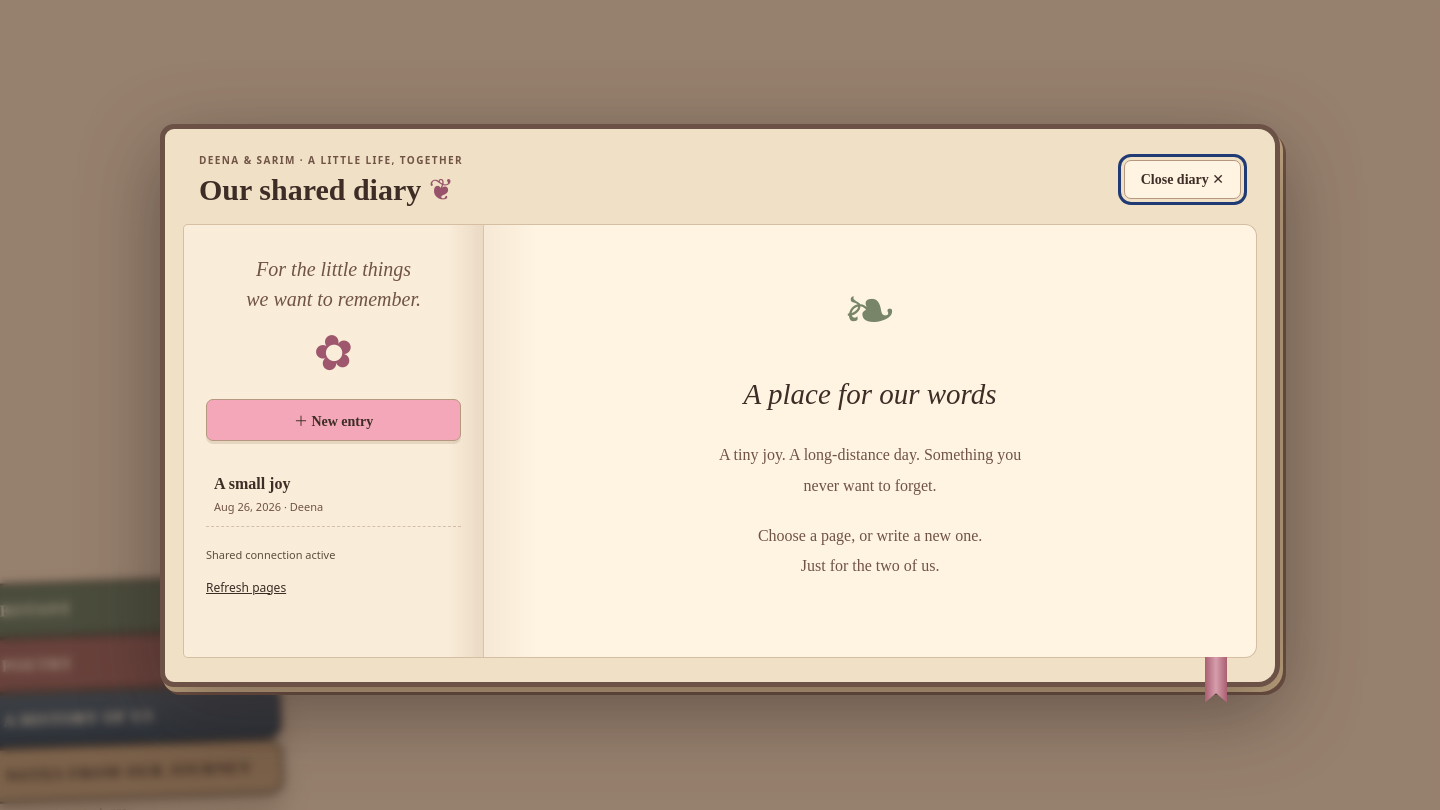
Test: interactive bookshelf and diary › keeps an editing draft when the partner changes the entry, and blocks a stale save
This screenshot has width=1440, height=810.
Check: the button "＋ New entry" is enabled, box [206,398,461,440]
Click the button "A small joy Aug 26, 2026 · Deena": (334, 494) [206,460,461,527]
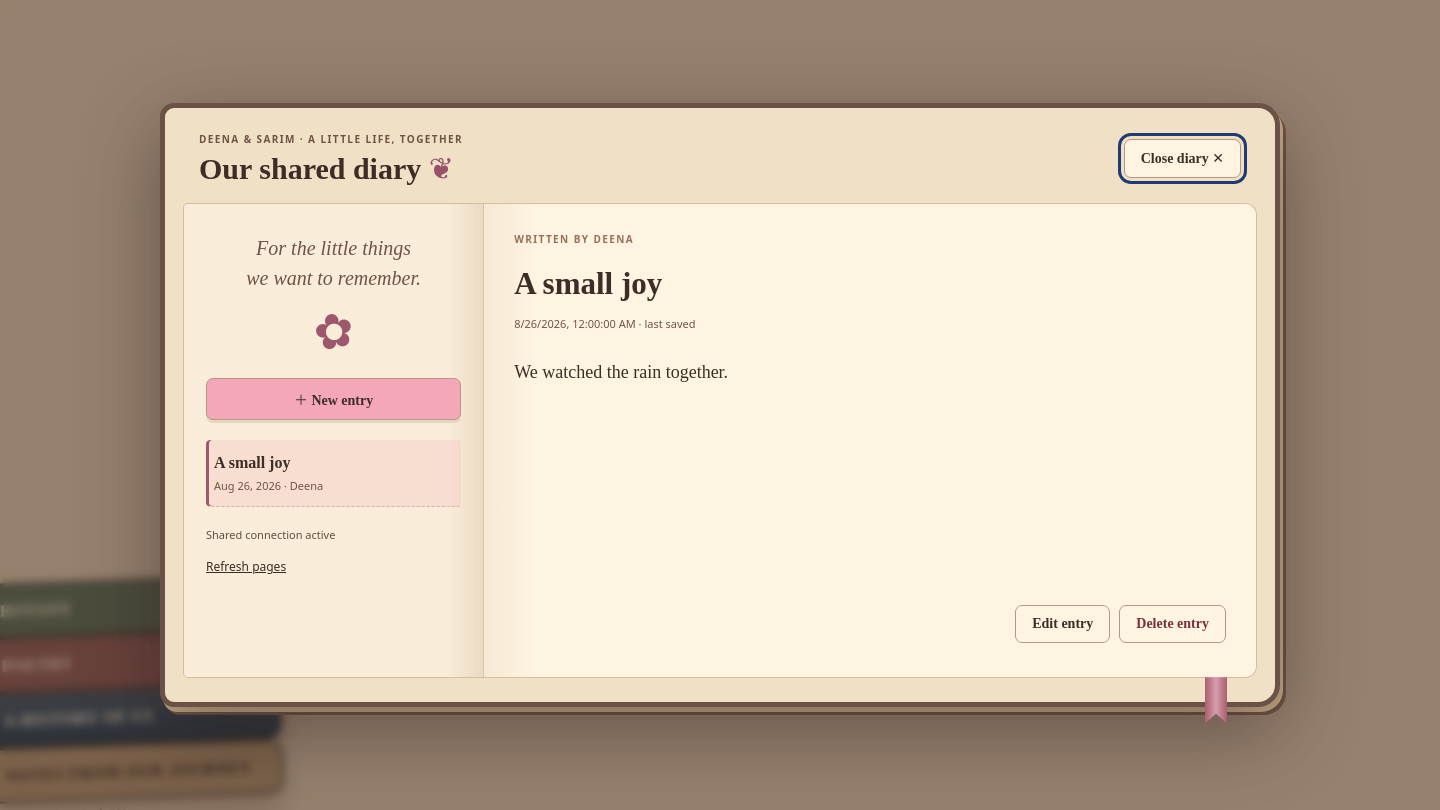
Click the button "Edit entry": (1063, 624) [1015,605,1110,643]
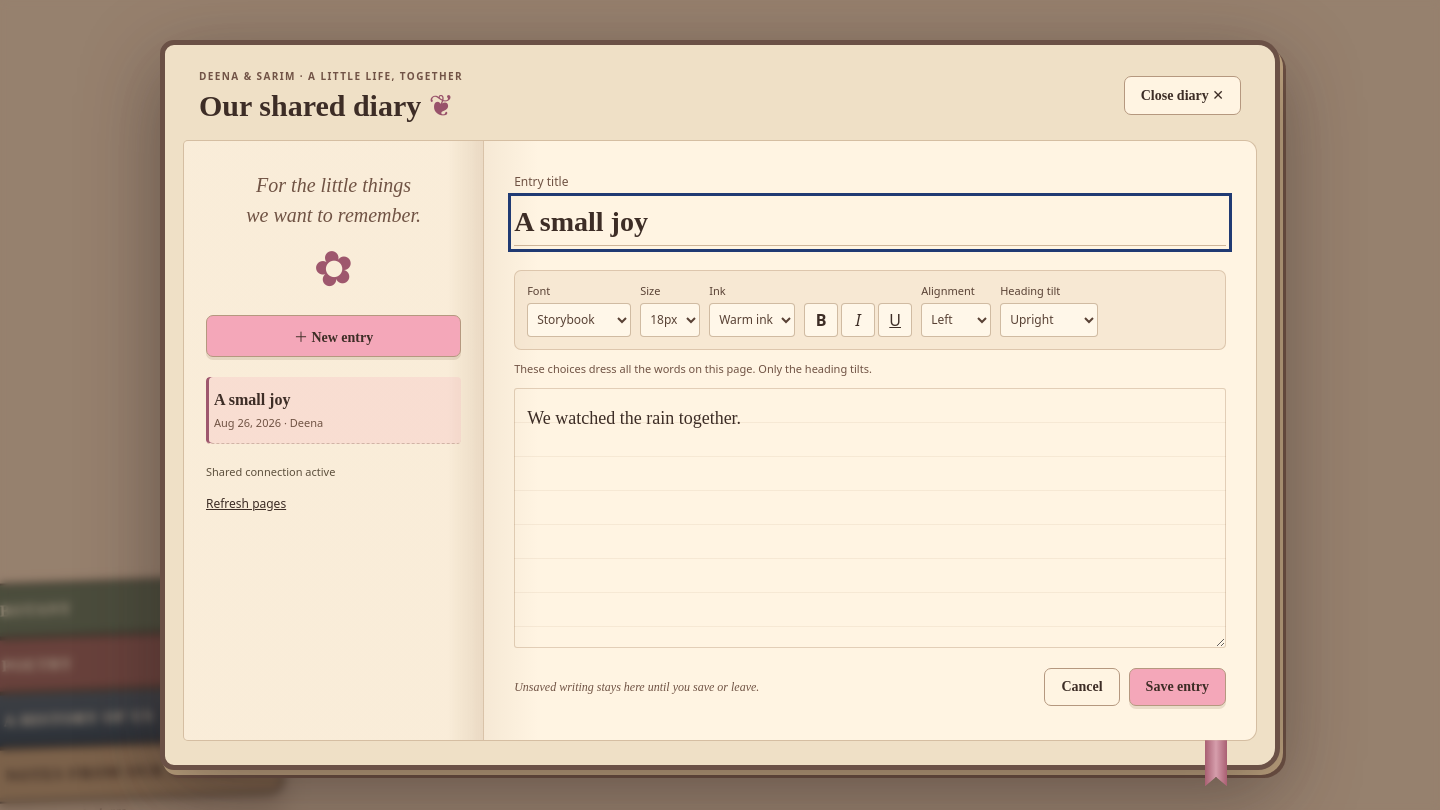
Replace the text in the text box named "Diary body" with "My unsaved words": (870, 518) [514,388,1226,648]
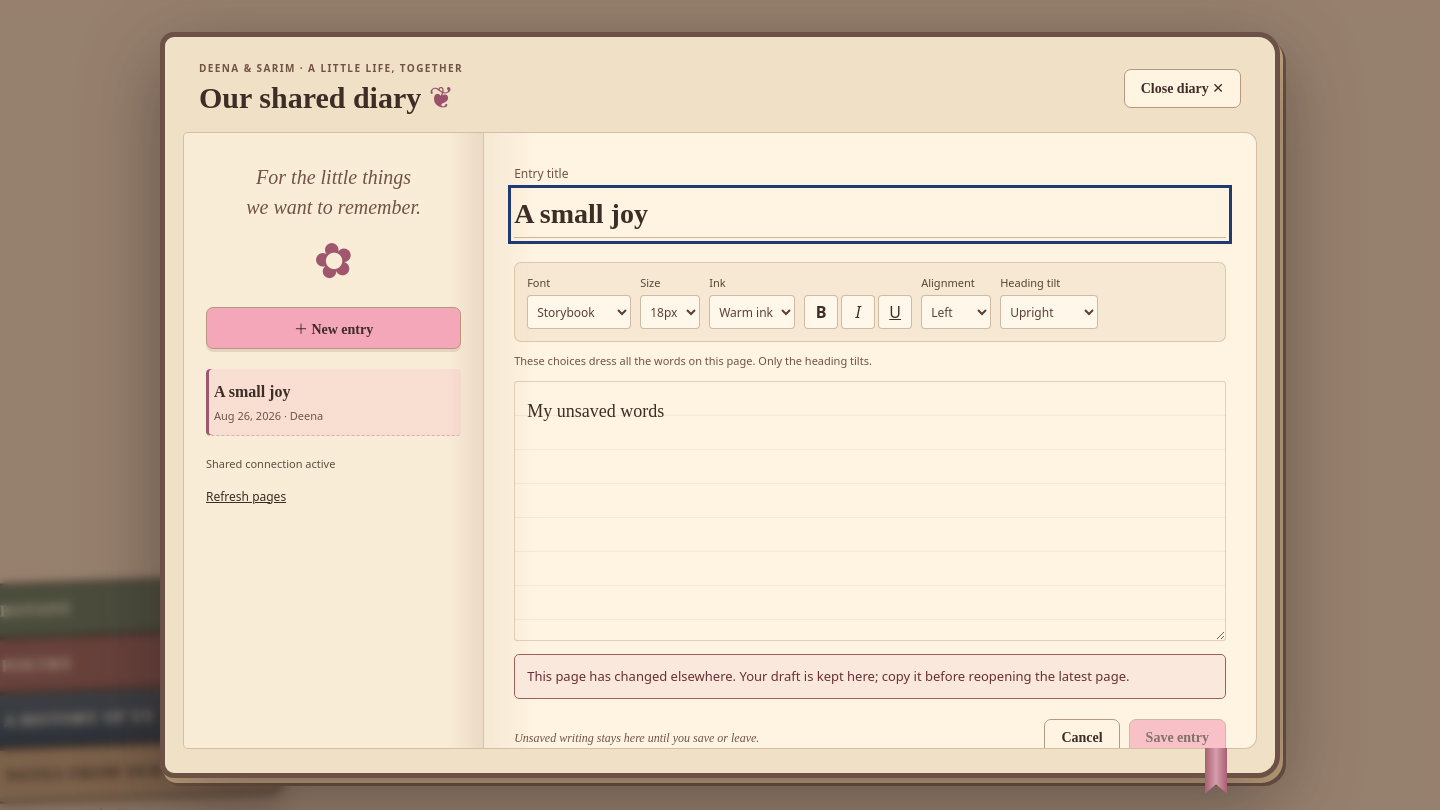
Check: the text "This page has changed elsewhere" is shown, box [527,667,1130,685]
Check: the button "Save entry" is disabled, box [1129,719,1226,749]
